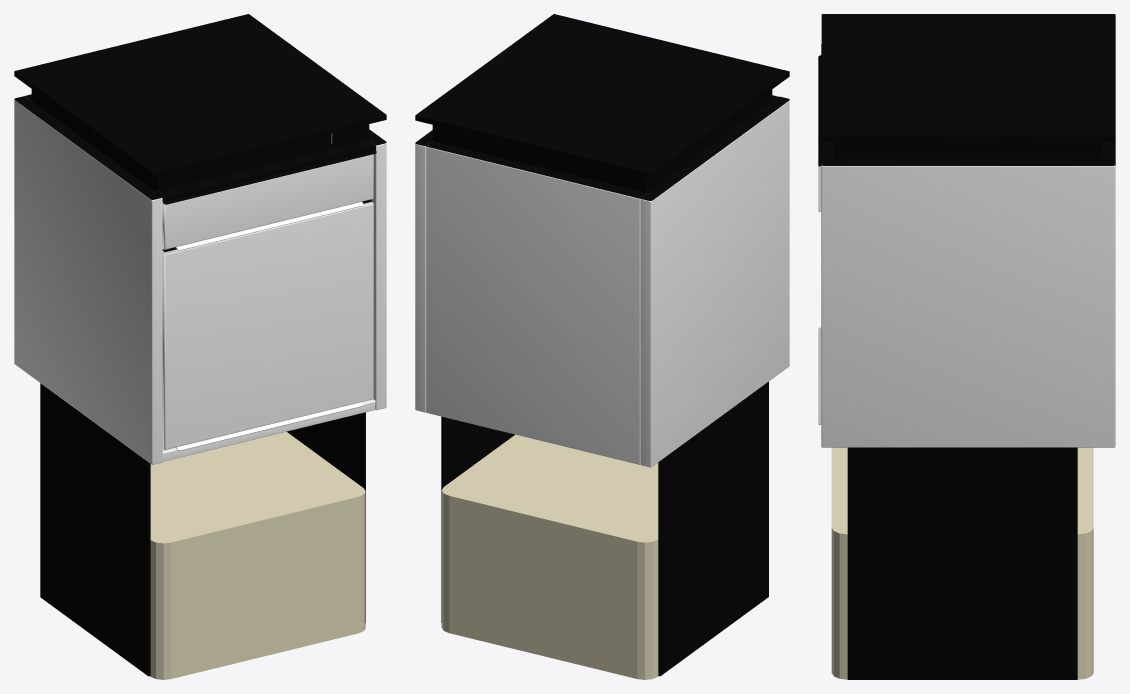
The model's file is LOKO.gltf.
3 renders of one model, left to right at view 1: azimuth 30°, elevation 25°; view 2: azimuth 150°, elevation 25°; view 3: azimuth 270°, elevation 25°, orthographic. The views are drawn at different scales.
Parts seen in each view (by area): view 1: Box005; view 2: Box005; view 3: Box005.
Boxes of the visible parts, x1,y1,x2,y2 form: Box005: [14, 14, 386, 679]; Box005: [415, 14, 789, 679]; Box005: [818, 14, 1115, 679].
Size of the model in its own units: 0.5414 by 1.15 by 0.5568.
